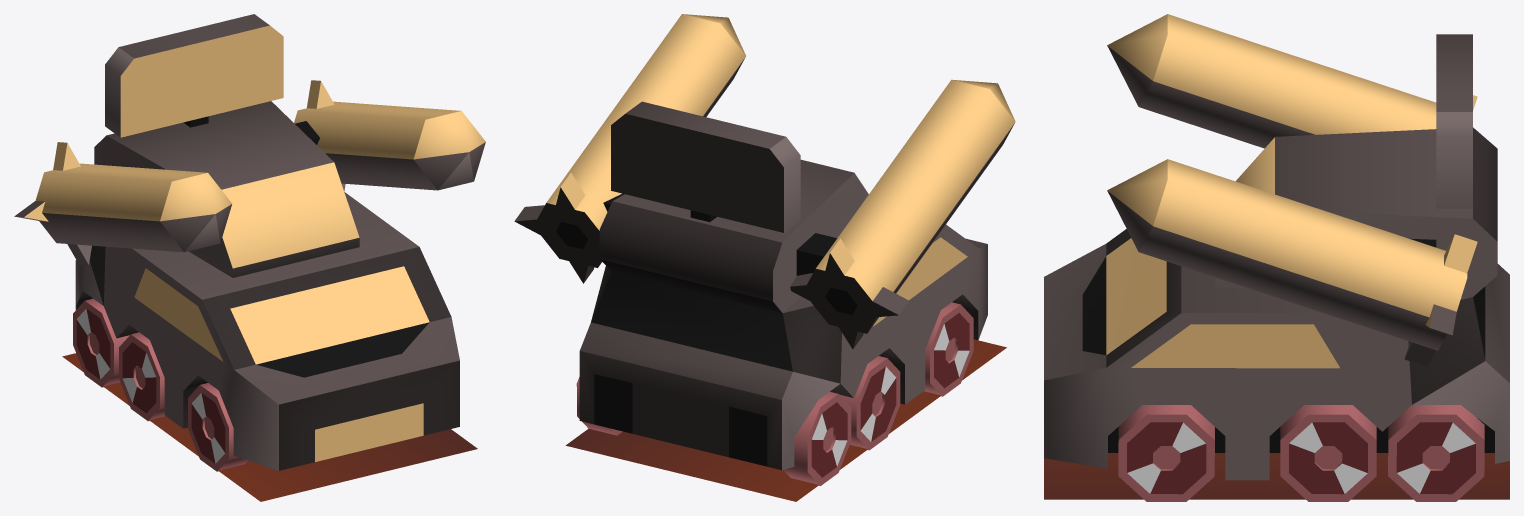
Rendered from MissileMesh.NoireEclipse.glb.
3 renders of one model, left to right at view 1: azimuth 30°, elevation 25°; view 2: azimuth 150°, elevation 25°; view 3: azimuth 270°, elevation 25°, orthographic. The views are drawn at different scales.
Parts seen in each view (by area): view 1: MissileMesh.NoireEclipse; view 2: MissileMesh.NoireEclipse; view 3: MissileMesh.NoireEclipse.
Part boxes in pixels (x1,y1,x2,y2): MissileMesh.NoireEclipse: [14, 14, 485, 501]; MissileMesh.NoireEclipse: [514, 14, 1015, 501]; MissileMesh.NoireEclipse: [1044, 14, 1509, 501].
Size of the model in its own units: 2 by 1.65 by 1.9.
1 material, 1 textured.
